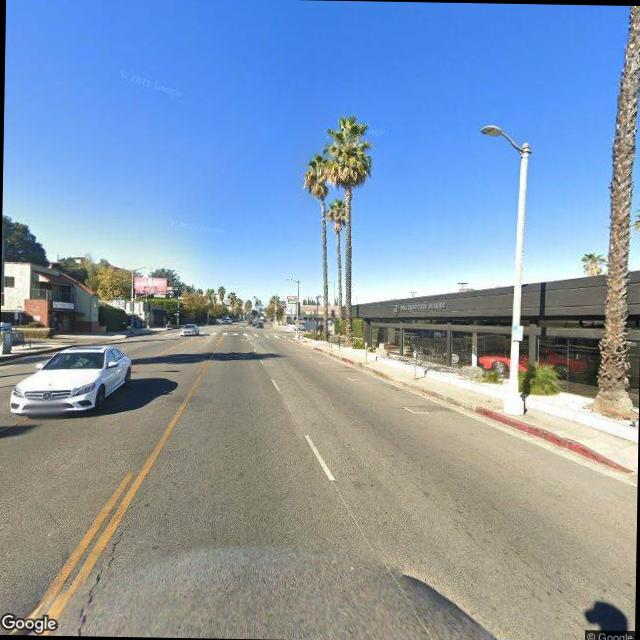pothole: (64, 501, 132, 634)
